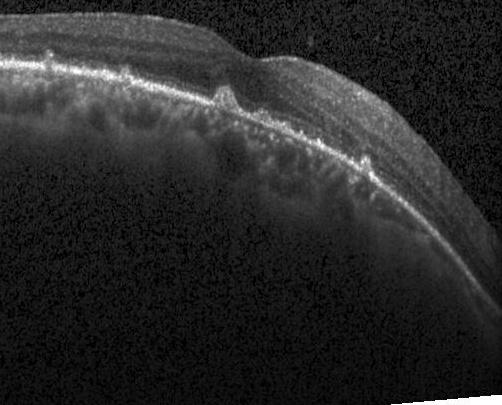retinal_drusen: (213, 88, 240, 114), (250, 110, 271, 126), (358, 158, 371, 176), (42, 55, 53, 73), (119, 71, 131, 83), (278, 122, 289, 134), (309, 140, 319, 147), (296, 132, 304, 138)
